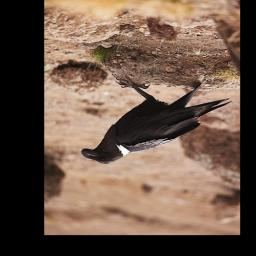Crow: (79, 72, 232, 167)
